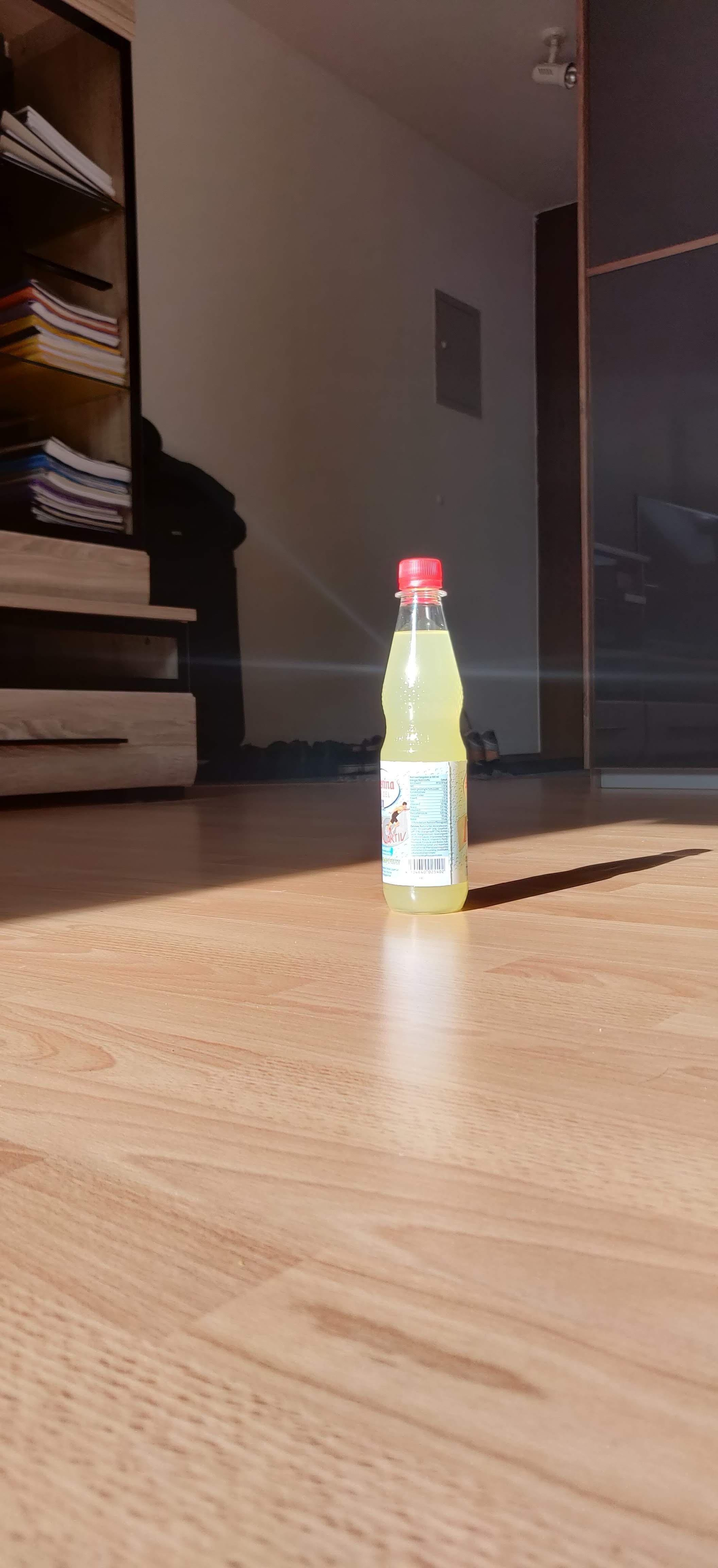bottle-plastic: (378, 554, 472, 915)
